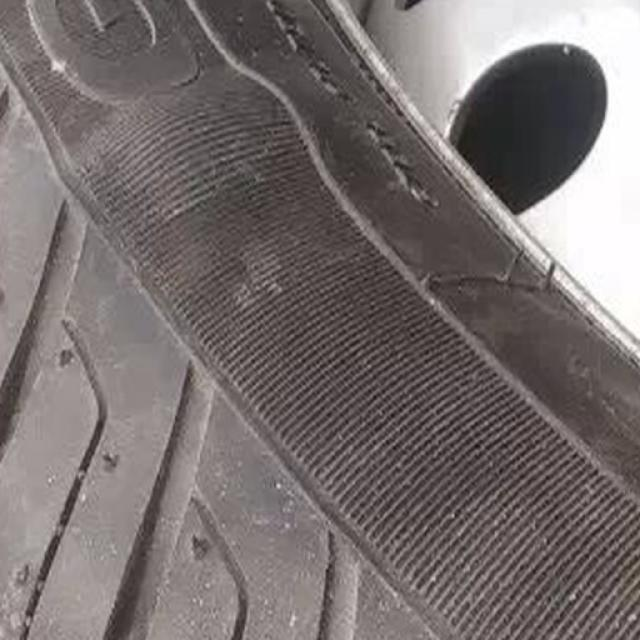Bulge: (54, 71, 331, 259)
